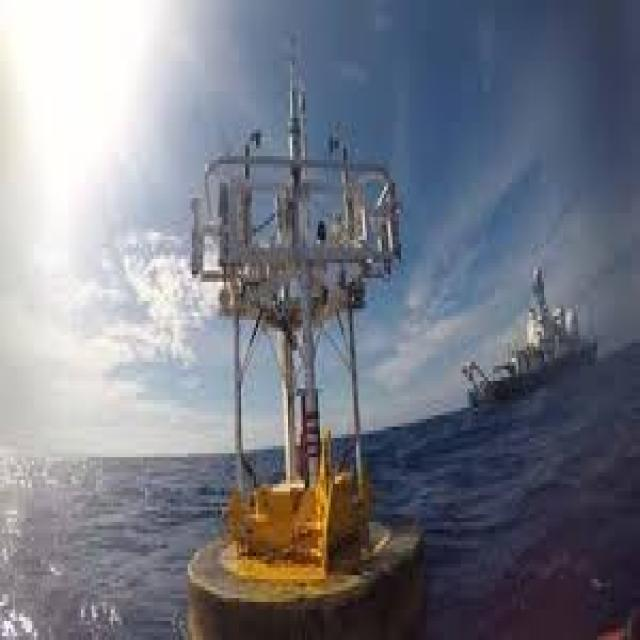marque: (163, 20, 430, 640)
